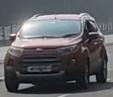Car: (4, 12, 109, 91)
